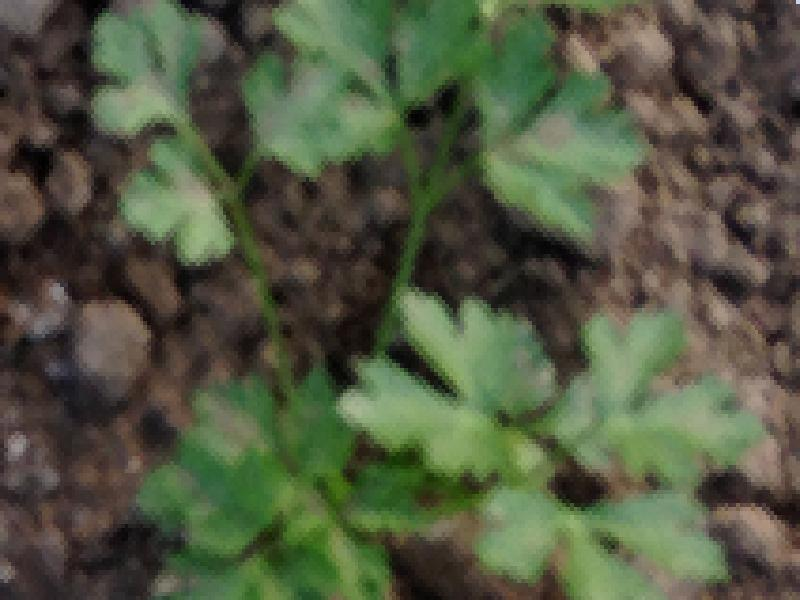radish: (56, 65, 757, 561)
